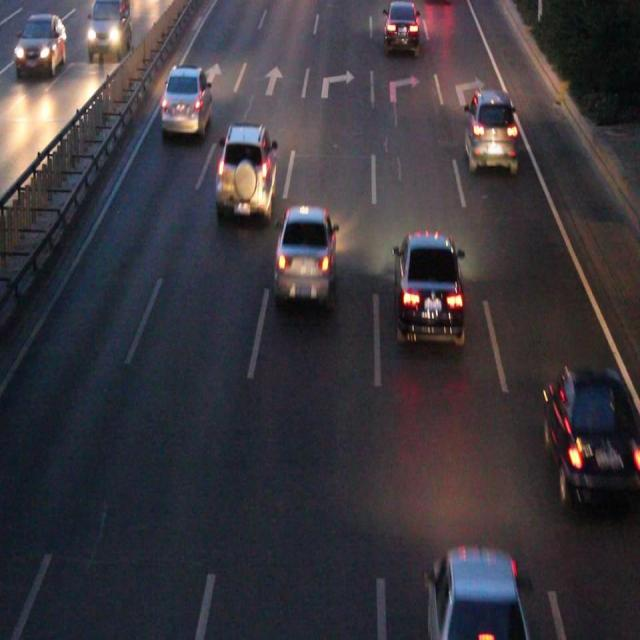car: (544, 371, 640, 501), (429, 552, 528, 640), (393, 236, 461, 341), (274, 205, 334, 302), (216, 122, 276, 215), (464, 94, 516, 169), (162, 69, 210, 131), (383, 1, 419, 50)
